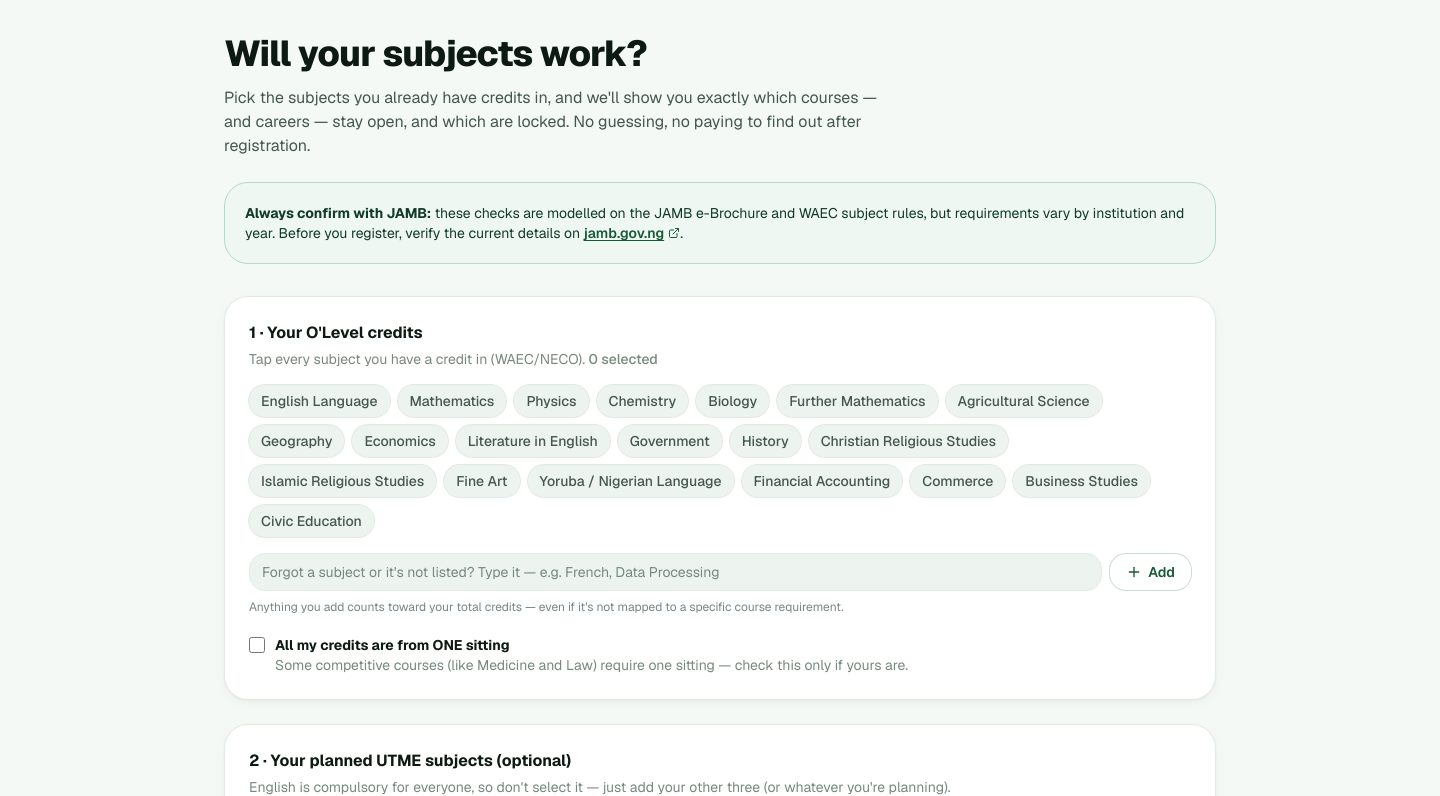
Test case: SubjectChecker › treats an added subject as a real credit for the course check
Replace the text in the field named "Add a subject not listed" with "computer studies" at coordinates (676, 572), box [249,553,1102,591]
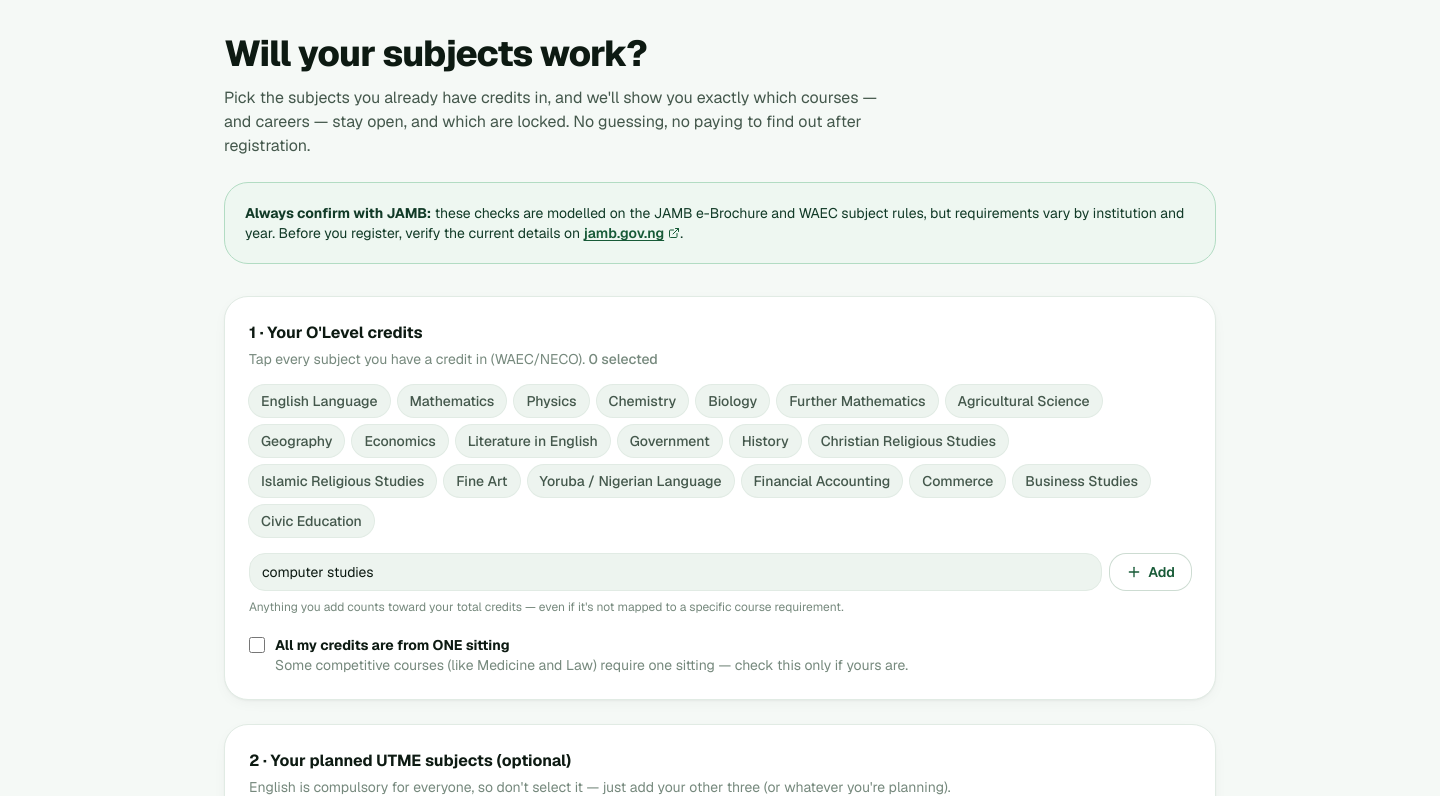
Click the button "Add".
click(1151, 572)  # box [1110,554,1191,590]
(page scrolled)
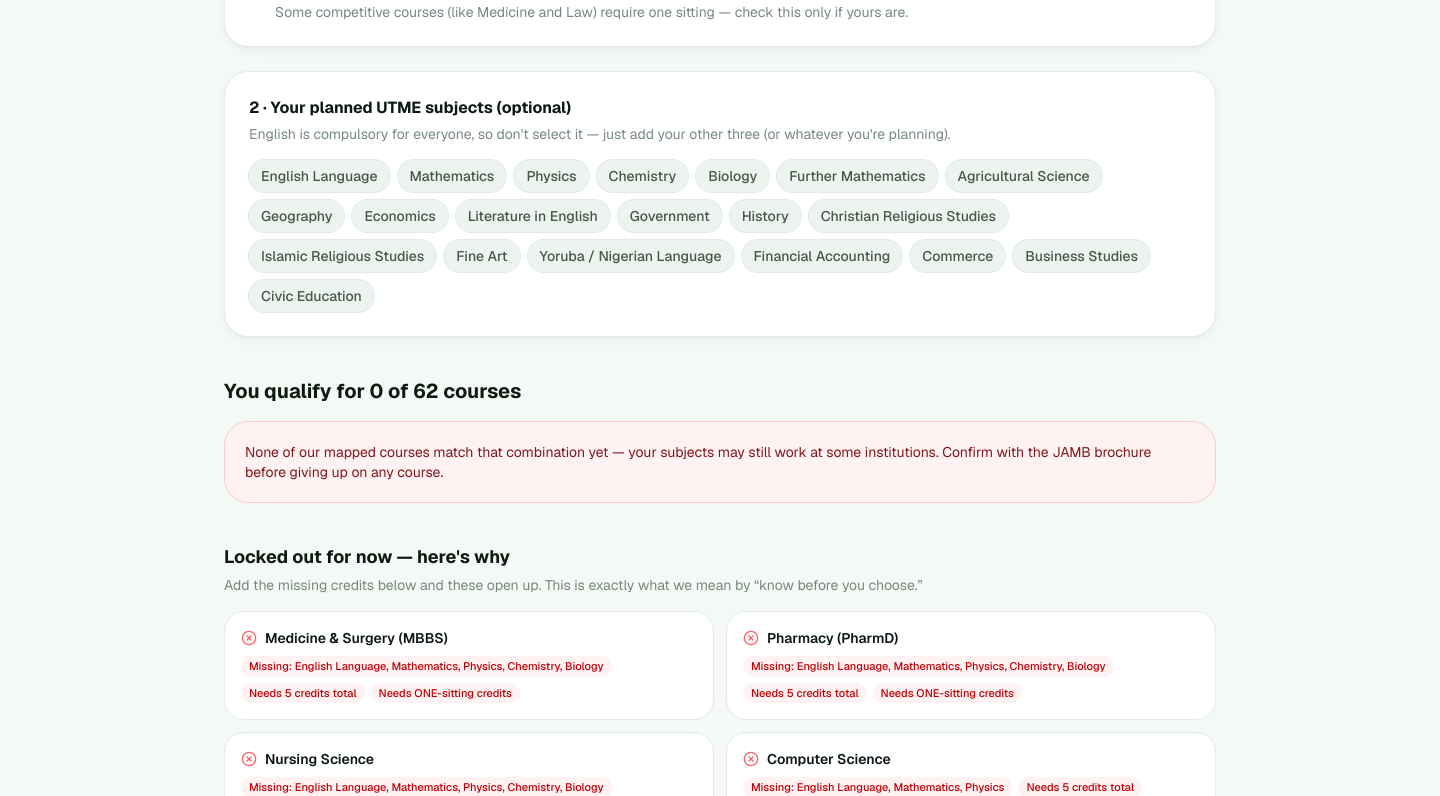
Expected: the heading "You qualify for 0 of 62 courses" is shown, [224,378,521,404]
